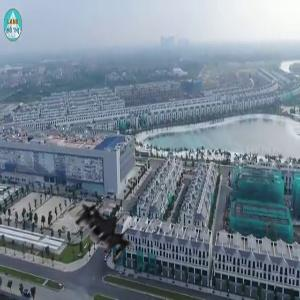drone: (58, 187, 151, 280)
